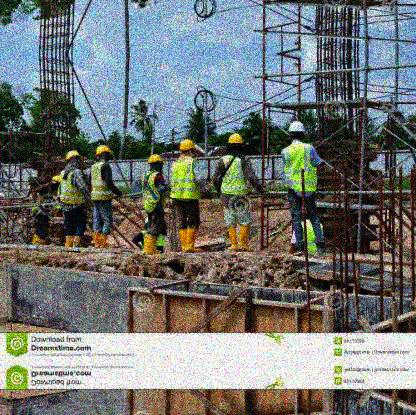helmet: (287, 120, 305, 141), (226, 133, 244, 152), (95, 145, 113, 163), (146, 154, 165, 171), (178, 139, 195, 157), (65, 150, 79, 166)
